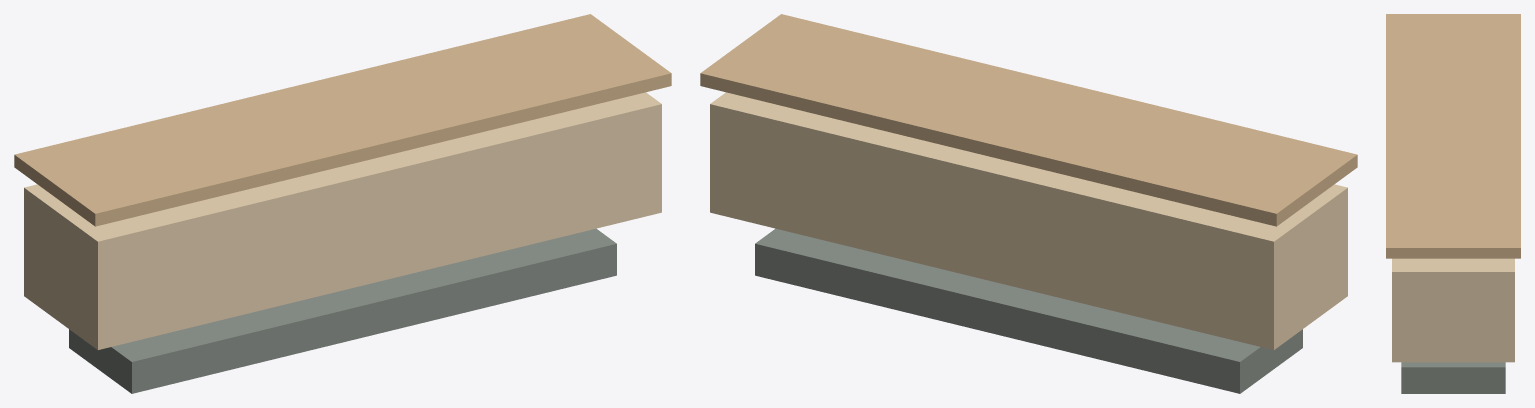
The model's file is media_console.glb.
3 renders of one model, left to right at view 1: azimuth 30°, elevation 25°; view 2: azimuth 150°, elevation 25°; view 3: azimuth 270°, elevation 25°, orthographic. The views are drawn at different scales.
Visible parts, largest first — view 1: media_console_oak_light_0, media_console_oak_1, media_console_dark_2; view 2: media_console_oak_light_0, media_console_oak_1, media_console_dark_2; view 3: media_console_oak_1, media_console_oak_light_0, media_console_dark_2.
Part boxes in pixels (x1=…): media_console_oak_light_0: x1=24, y1=92, x2=661, y2=349; media_console_oak_1: x1=14, y1=14, x2=671, y2=226; media_console_dark_2: x1=69, y1=228, x2=616, y2=393; media_console_oak_light_0: x1=710, y1=92, x2=1347, y2=349; media_console_oak_1: x1=700, y1=14, x2=1357, y2=226; media_console_dark_2: x1=755, y1=228, x2=1302, y2=393; media_console_oak_1: x1=1386, y1=14, x2=1520, y2=258; media_console_oak_light_0: x1=1392, y1=258, x2=1514, y2=362; media_console_dark_2: x1=1401, y1=362, x2=1505, y2=393.
Bounding box in the file's own units: 1.89 × 0.62 × 0.46.
